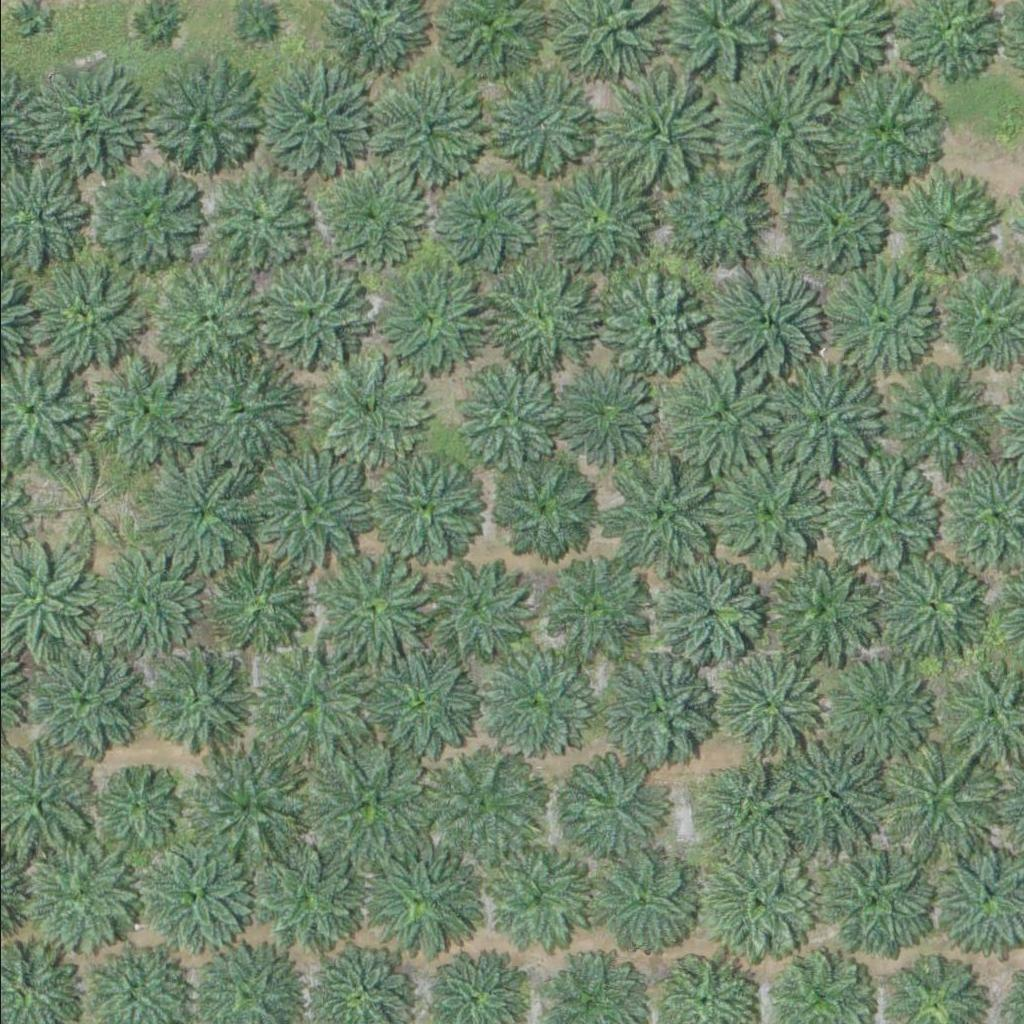Kelapa_Sawit: (688, 835, 814, 960), (712, 64, 838, 189), (822, 66, 948, 191), (471, 252, 597, 377), (361, 262, 487, 387), (596, 68, 722, 193), (236, 831, 362, 956), (179, 745, 305, 870), (253, 247, 379, 372), (478, 845, 592, 958), (556, 749, 670, 862), (365, 838, 479, 951), (371, 76, 485, 189), (316, 550, 430, 663), (26, 645, 140, 758), (887, 747, 1000, 860), (774, 739, 887, 852), (709, 648, 822, 761), (875, 367, 988, 480), (762, 361, 875, 474), (828, 260, 941, 373), (654, 360, 767, 473), (711, 454, 824, 567), (422, 746, 535, 859), (417, 559, 530, 672), (371, 452, 484, 565), (596, 458, 709, 571), (551, 354, 664, 467), (27, 66, 140, 179), (316, 154, 429, 267), (155, 263, 268, 376), (87, 354, 200, 467), (185, 348, 298, 461), (257, 648, 370, 761), (705, 261, 819, 373), (589, 843, 703, 955), (601, 655, 715, 767), (315, 354, 429, 466), (255, 454, 369, 566), (78, 549, 192, 661), (823, 843, 936, 955), (877, 548, 990, 660), (759, 555, 872, 667), (824, 460, 937, 572), (646, 558, 759, 670), (529, 550, 642, 662), (468, 646, 581, 758), (366, 650, 479, 762), (442, 363, 555, 475), (593, 269, 706, 381), (539, 164, 652, 276), (134, 839, 247, 951), (23, 838, 136, 950), (312, 747, 425, 859), (250, 64, 363, 176), (138, 64, 251, 176), (89, 161, 202, 273), (204, 168, 317, 280), (31, 266, 144, 378), (144, 456, 257, 568), (34, 457, 135, 557), (830, 659, 931, 759), (491, 460, 592, 560), (423, 167, 524, 267), (483, 79, 584, 179), (892, 172, 992, 272), (783, 170, 883, 270), (660, 155, 760, 255), (208, 552, 308, 652), (150, 651, 250, 751), (98, 765, 174, 840), (708, 768, 783, 843)
